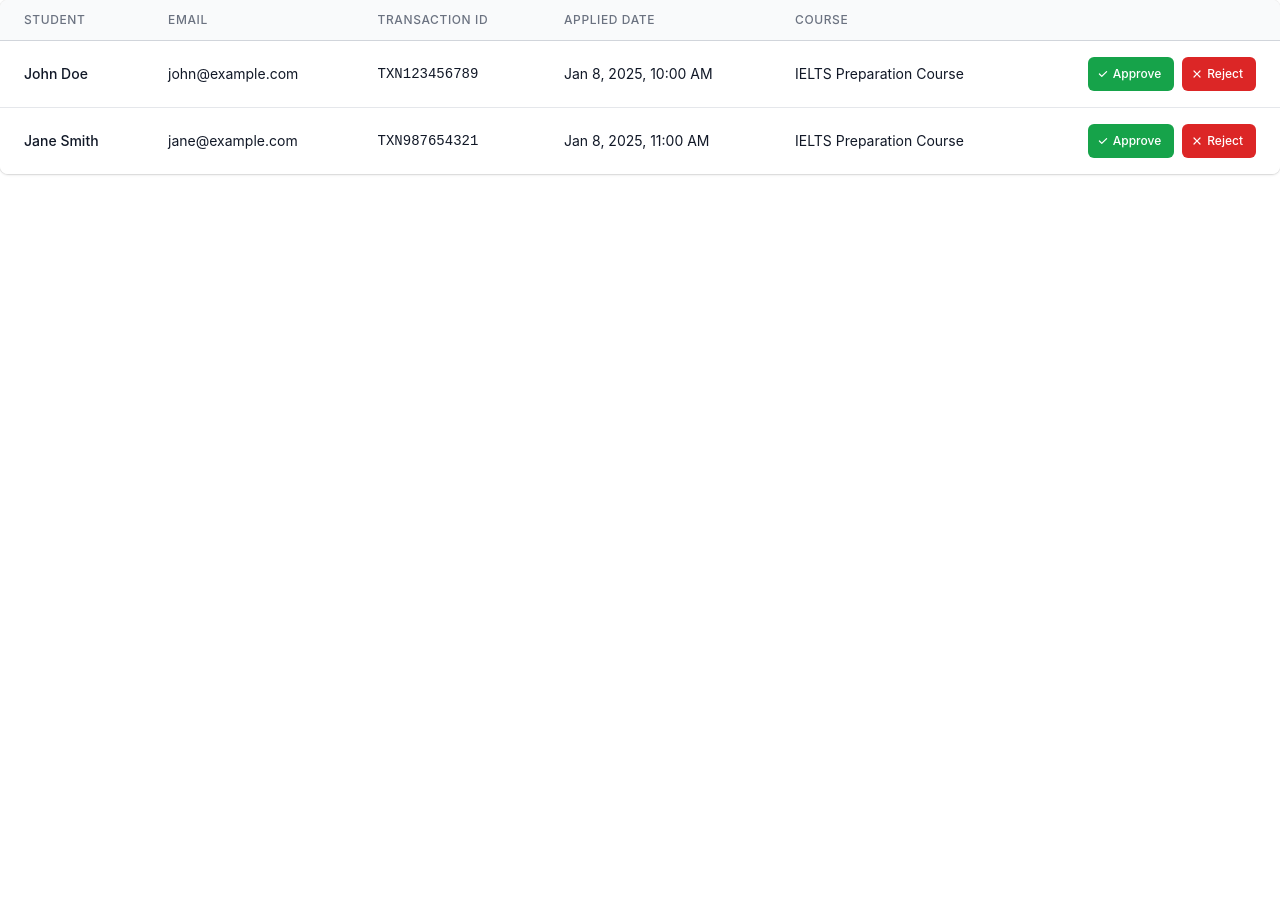
Scenario: EnrollmentTable › shows confirmation dialog before approval
The width and height of the screenshot is (1280, 900).
Click the button "Approve" in the row of "John Doe". click: (1131, 74)
box: [1088, 57, 1174, 91]
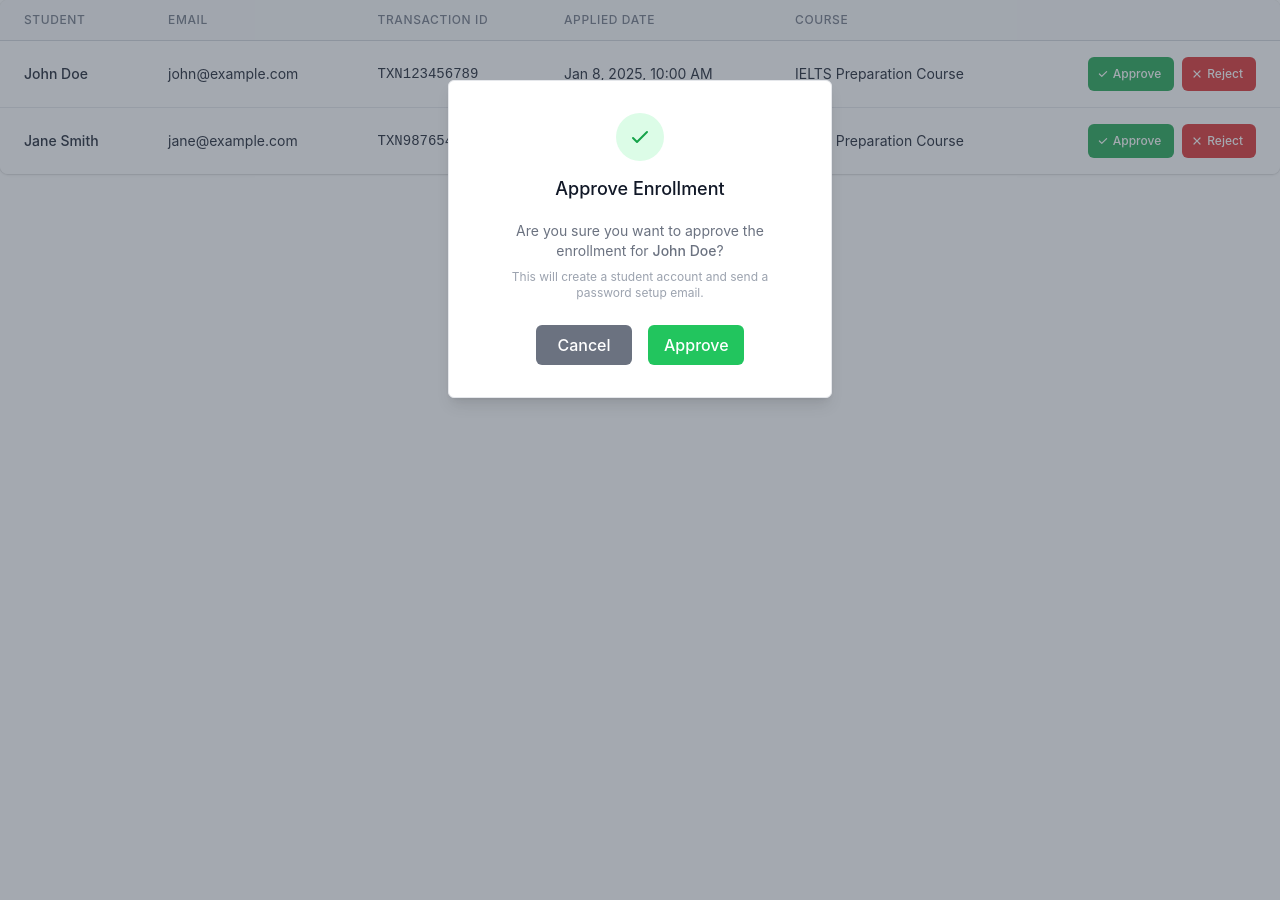
Now the heading "Approve Enrollment" is shown, box [555, 178, 725, 199]
Now the text "Are you sure you want to approve the enrollment for" is shown, box [497, 221, 783, 301]
Now the text "This will create a student account and send a password setup email" is shown, box [512, 269, 768, 300]
